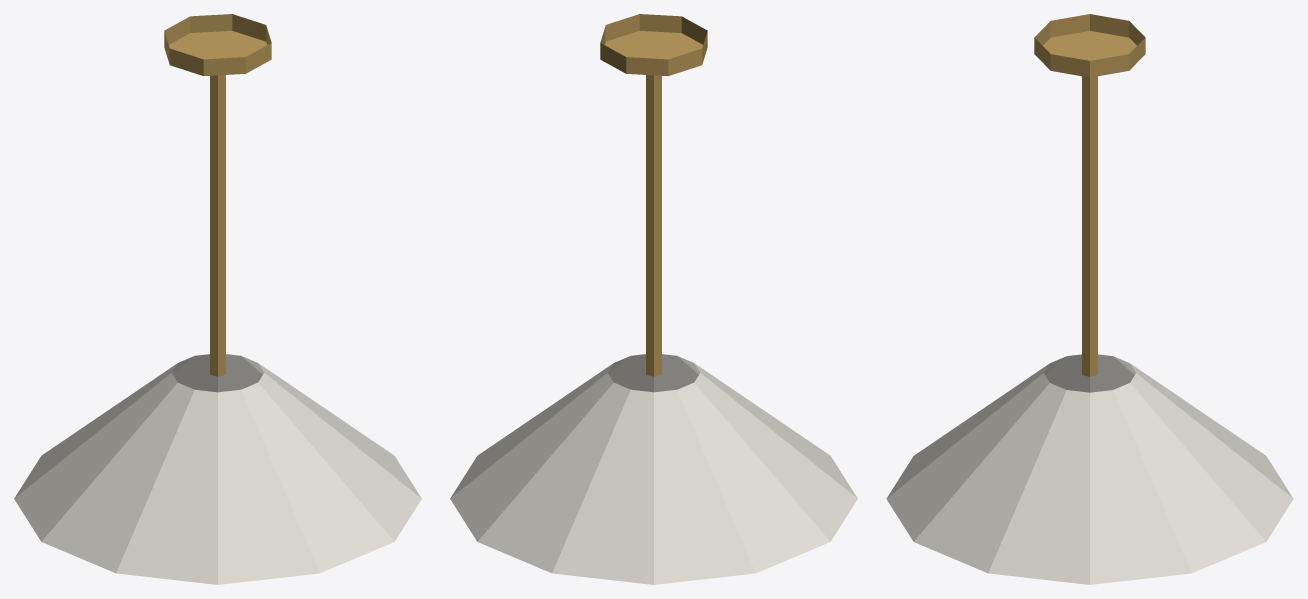
File: ceiling_lamp.gltf
The picture shows the model from 3 angles, left to right: view 1: azimuth 30°, elevation 25°; view 2: azimuth 150°, elevation 25°; view 3: azimuth 270°, elevation 25°; orthographic projection.
Parts seen in each view (by area): view 1: Mesh; view 2: Mesh; view 3: Mesh.
Boxes of the visible parts, left/top/right/bottom form: Mesh: left=14, top=14, right=421, bottom=584; Mesh: left=450, top=14, right=857, bottom=584; Mesh: left=886, top=14, right=1293, bottom=584.
Bounding box in the file's own units: 0.44 × 0.55 × 0.44.
